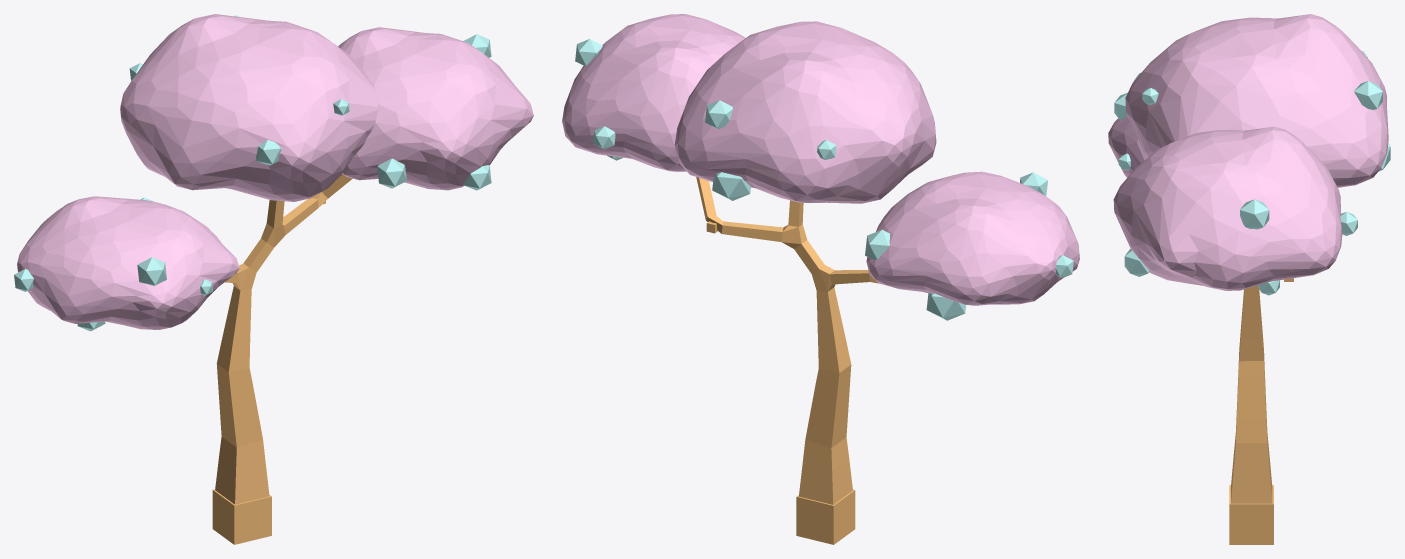
Rendered from tree2.gltf.
3 views of the same model, side by side, from view 1: azimuth 30°, elevation 25°; view 2: azimuth 150°, elevation 25°; view 3: azimuth 270°, elevation 25° (orthographic). The views are drawn at different scales.
Visible parts, largest first — view 1: Tree2, Tree2.002, Tree2.001; view 2: Tree2, Tree2.002, Tree2.001; view 3: Tree2, Tree2.002, Tree2.001.
Part boxes in pixels (x1,y1,x2,y2): Tree2: [17, 14, 533, 329]; Tree2.002: [212, 174, 352, 544]; Tree2.001: [14, 15, 491, 331]; Tree2: [562, 14, 1079, 305]; Tree2.002: [696, 177, 878, 544]; Tree2.001: [575, 39, 1073, 320]; Tree2: [1108, 14, 1388, 290]; Tree2.002: [1229, 278, 1293, 544]; Tree2.001: [1114, 51, 1390, 295].
Bounding box in the file's own units: 12.03 × 11.52 × 5.74.
